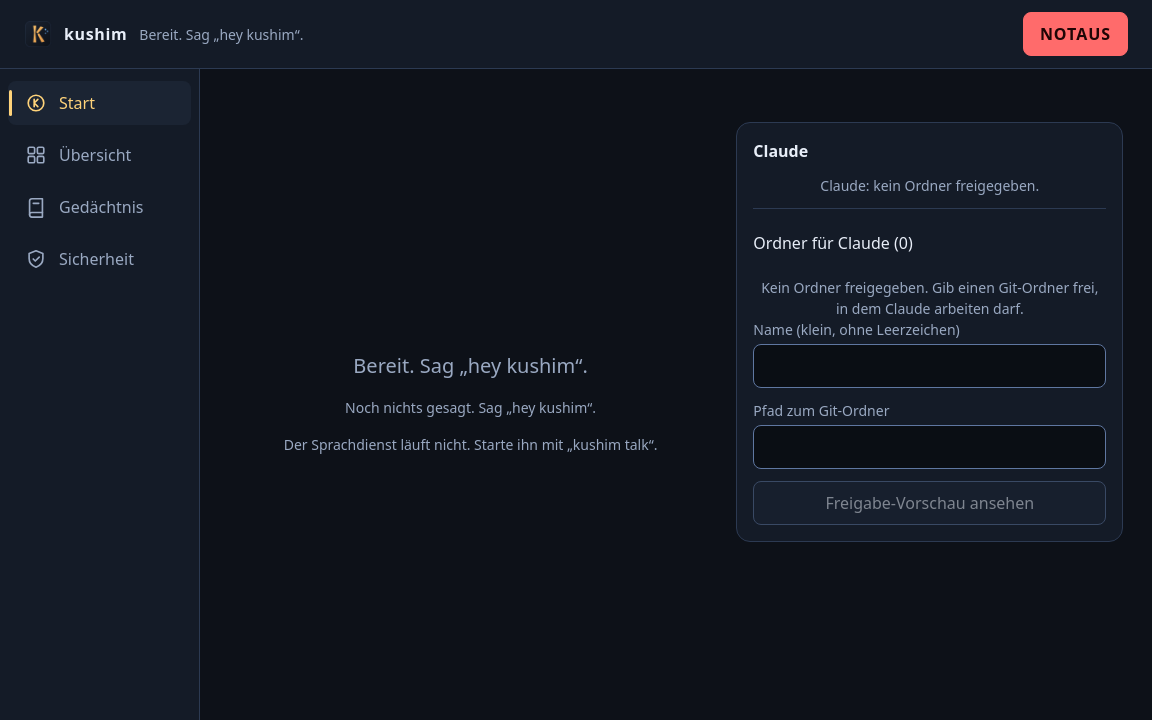
Test: Sicherheitsstatus › Modus C steht als Warnung im Bildschirm UND dauerhaft als Chip in der Kopfzeile
Click the button "Sicherheit" at (100, 259), box [8, 237, 191, 281]
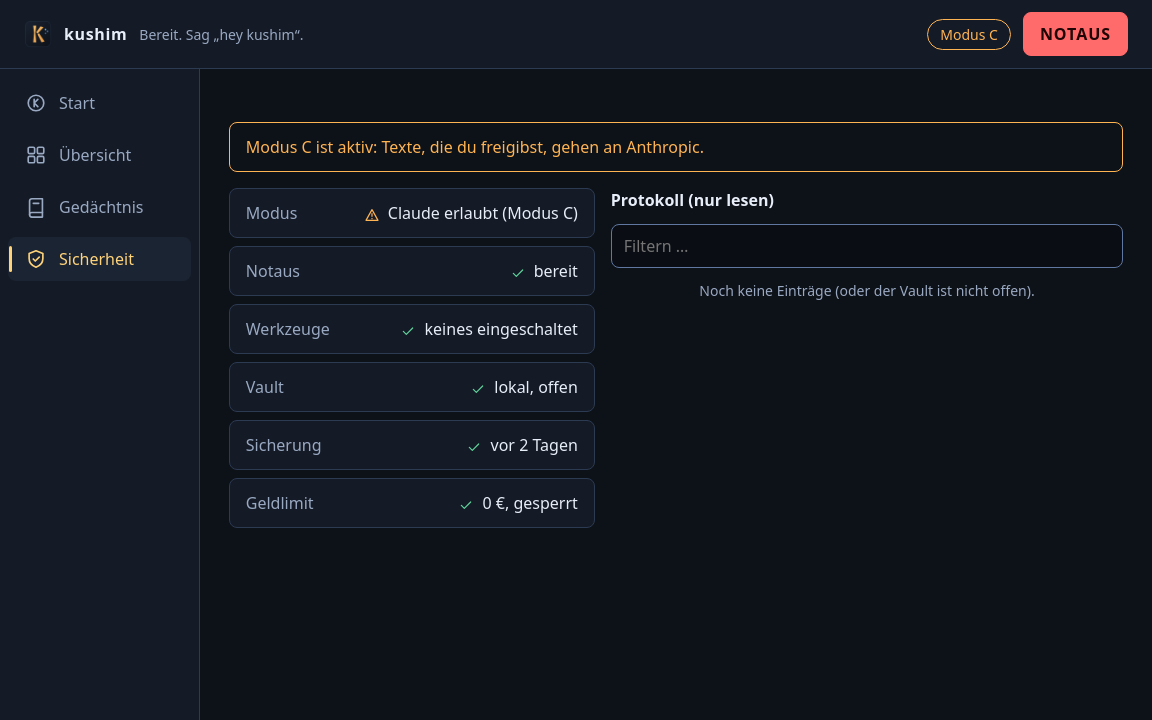
Check: the element named "Sicherheitsstatus" is shown, box [229, 122, 1123, 528]
Check: the text "Claude erlaubt (Modus C)" is shown, box [364, 201, 578, 225]
Check: the text "Modus C ist aktiv: Texte, die du freigibst, gehen an Anthropic." is shown, box [229, 122, 1123, 172]
